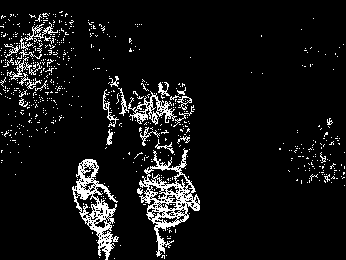person: (145, 148, 200, 260), (74, 157, 128, 260), (103, 72, 128, 144), (177, 80, 198, 145), (135, 74, 153, 144), (159, 79, 171, 143)
